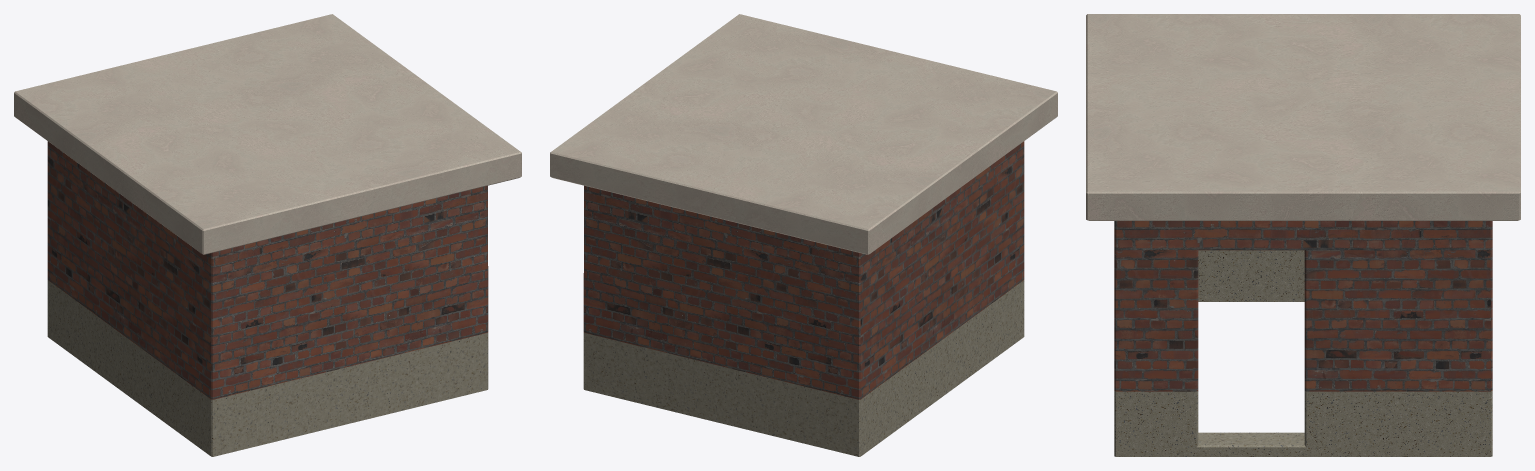
File: RoofBuilding01.fbx
3 renders of one model, left to right at view 1: azimuth 30°, elevation 25°; view 2: azimuth 150°, elevation 25°; view 3: azimuth 270°, elevation 25°, orthographic. The views are drawn at different scales.
Parts seen in each view (by area): view 1: RoofBuilding01; view 2: RoofBuilding01; view 3: RoofBuilding01.
Boxes of the visible parts, bbox=[...] form: RoofBuilding01: bbox=[14, 14, 521, 456]; RoofBuilding01: bbox=[550, 14, 1057, 456]; RoofBuilding01: bbox=[1086, 14, 1520, 456].
Size of the model in its own units: 483 by 348 by 496.
